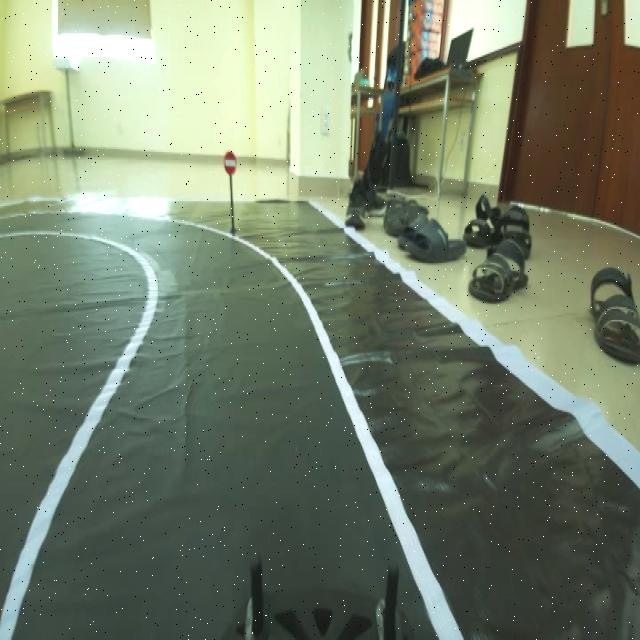no_entry: (220, 147, 239, 178)
